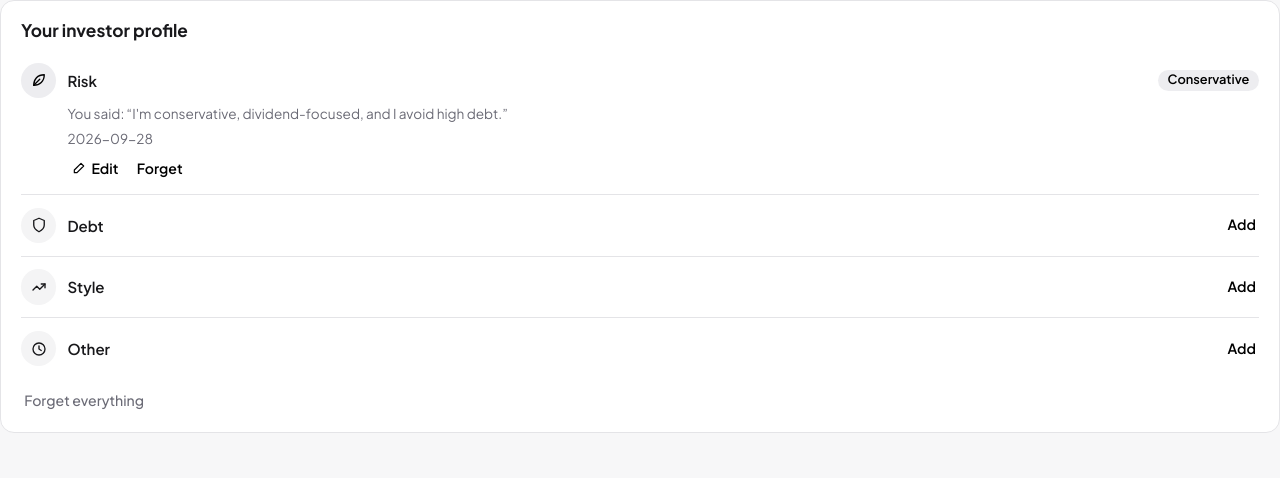
Test case: the memory panel › cancels editing without saving
Step 1. Click the button with aria-label "Edit Risk" → (94, 168), box [67,156,122,181]
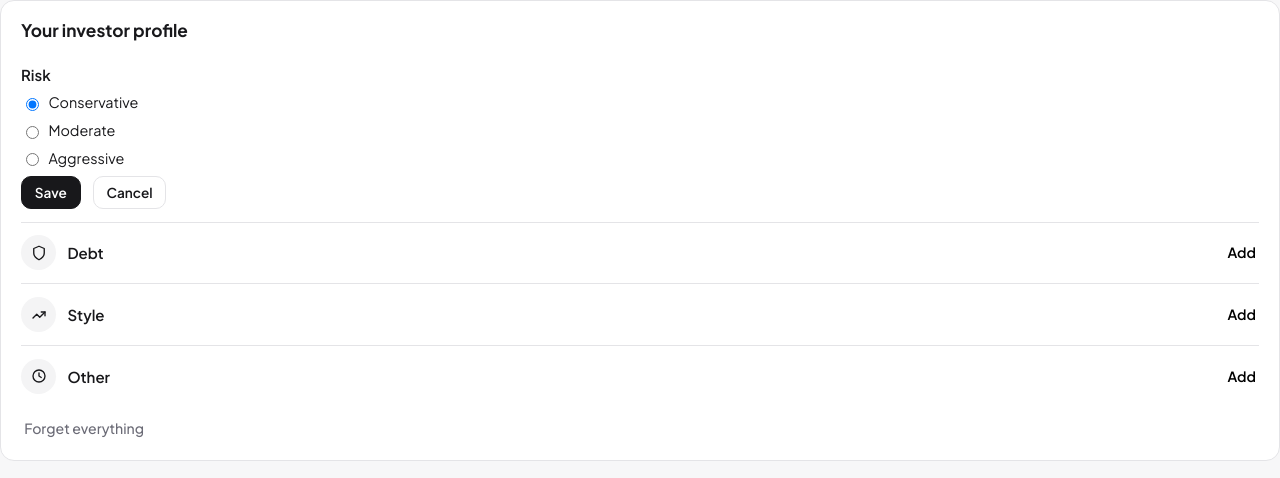
Step 2. Click the button with aria-label "Cancel editing Risk" → (130, 192), box [93,176,166,209]
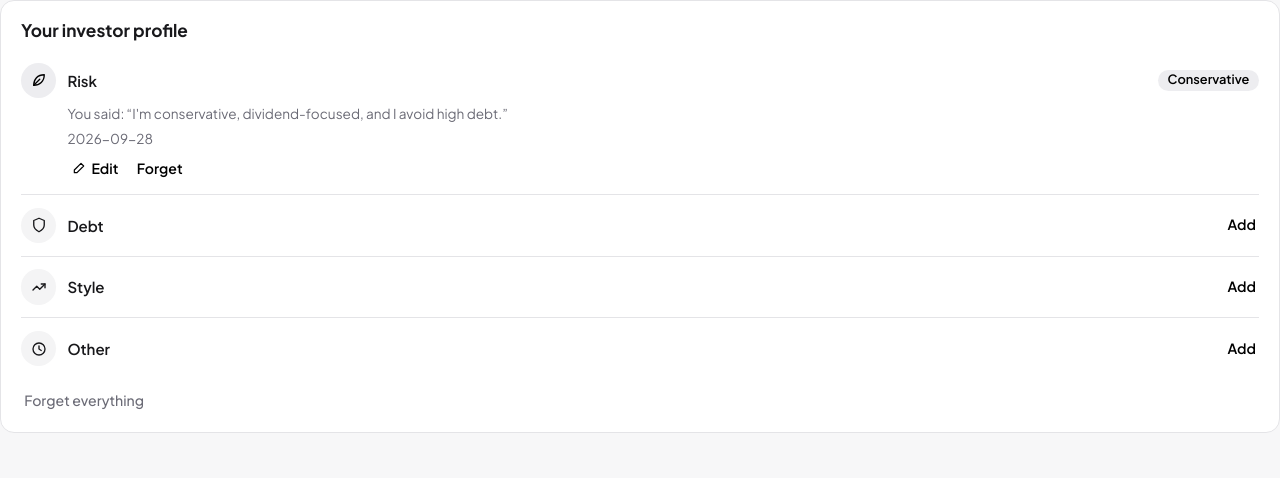
Now the label "Moderate" is gone
Now the text "Conservative" is shown, box [1158,70,1259,91]
